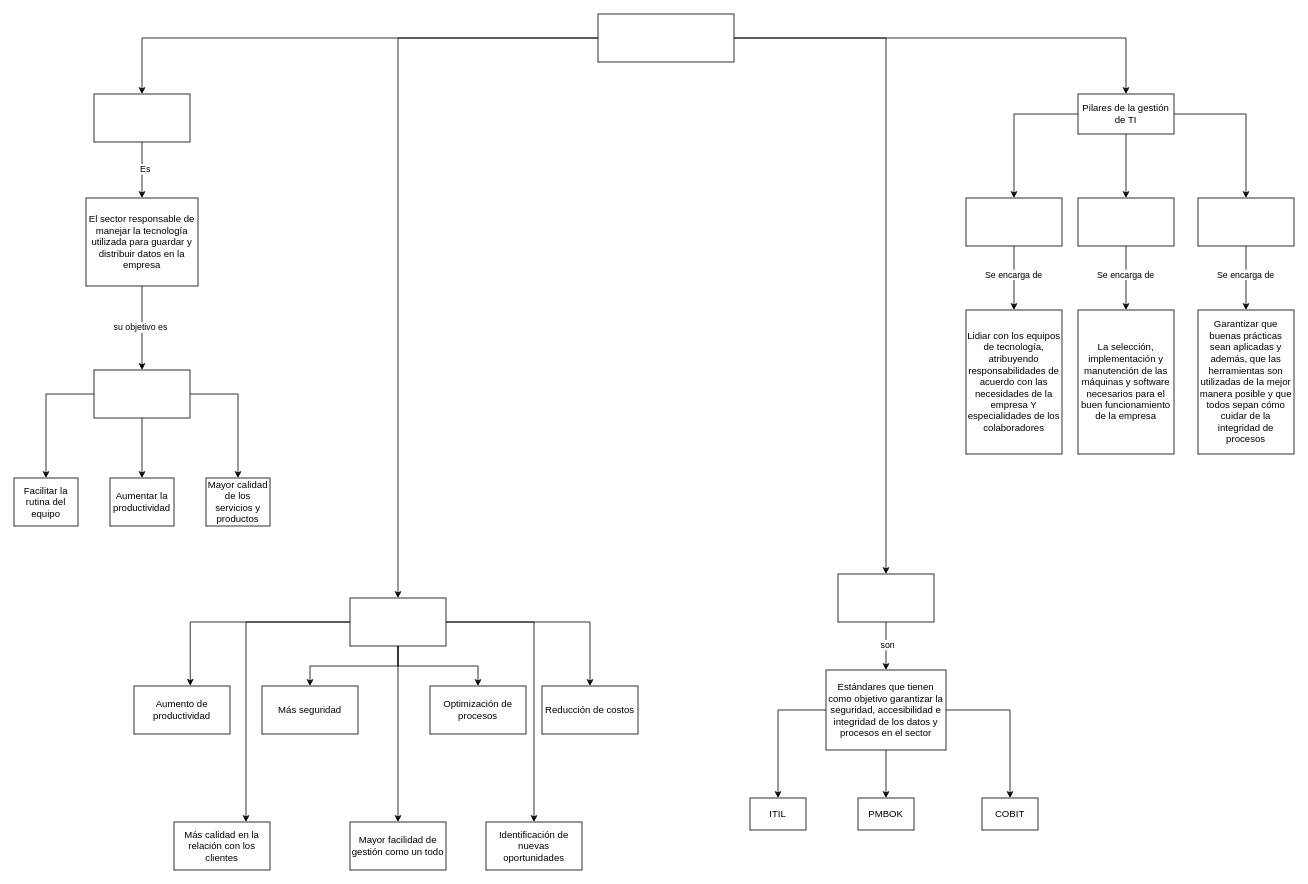
The diagram is 1308 pixels wide and 884 high, and some of its shapes have lost their labels. The shapes that lost their labels are listed below. From the top down, each one's centre as x and y in pixels, then its label:
At (x=665, y=37): "Gestión de Tecnología de Información".
At (x=141, y=117): "¿Qué es Gestión de TI?".
At (x=1013, y=221): "Personas".
At (x=1125, y=221): "Herramientas".
At (x=1245, y=221): "Procesos".
At (x=141, y=393): "Optimizar el proceso de almacenamiento y acceso de información".
At (x=885, y=597): "Buenas prácticas en la gestión de ti".
At (x=397, y=621): "Beneficios que trae la gestión de TI".
